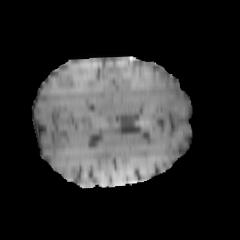glioma: (84, 64, 188, 113)
